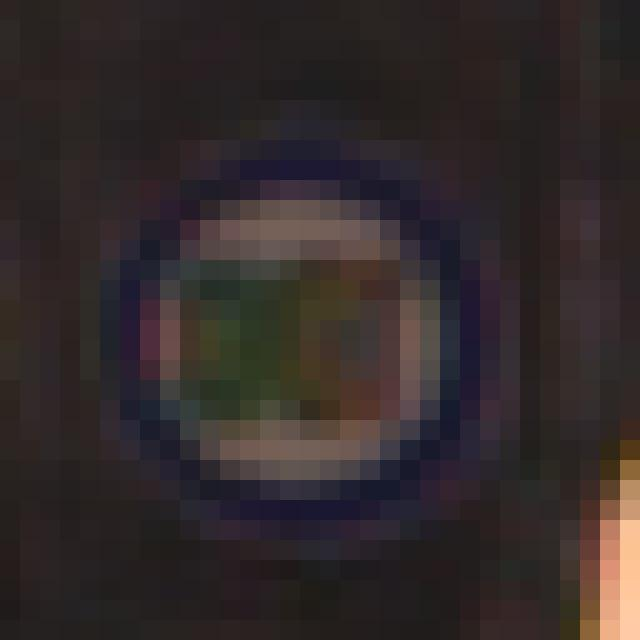SPEED LIMIT 100: (99, 140, 493, 542)
